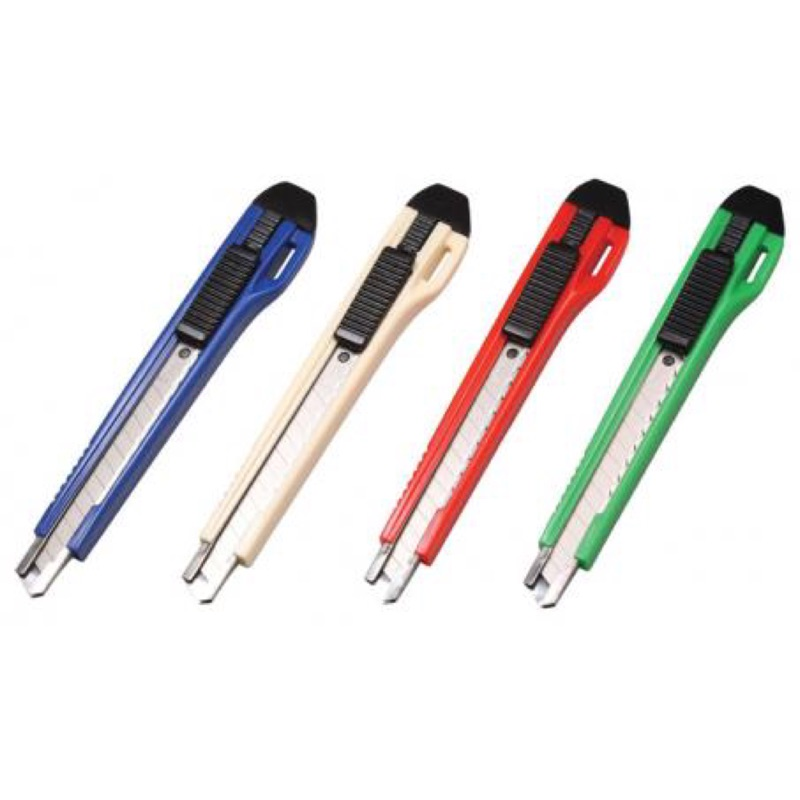cutter: (14, 179, 318, 599), (170, 183, 472, 602), (360, 178, 632, 603), (522, 183, 787, 609)
